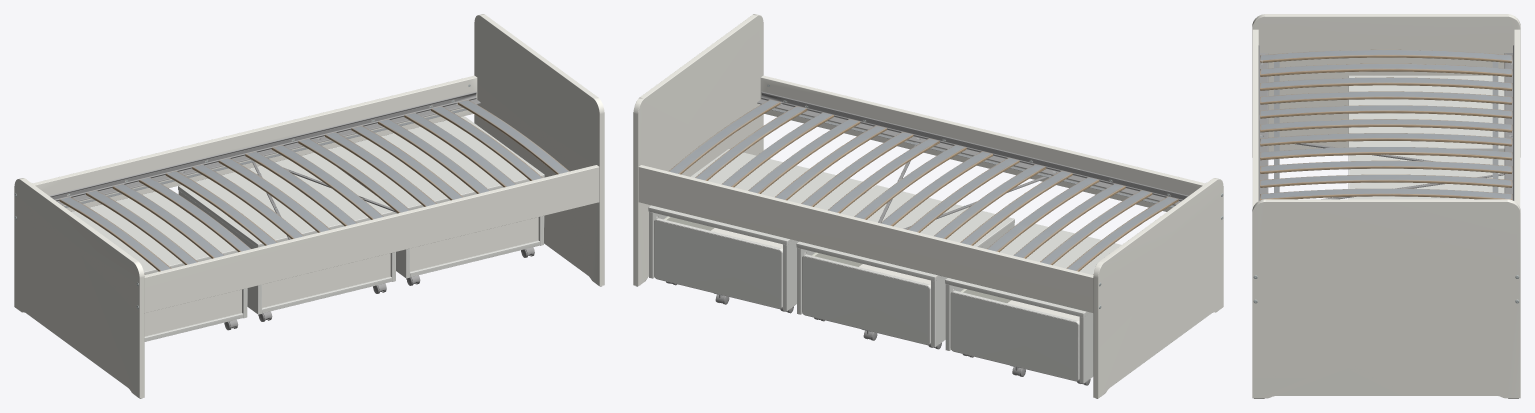
File: slakt_rama_ozka_z_3_poj_na_posciel_89386070.glb
3 renders of one model, left to right at view 1: azimuth 30°, elevation 25°; view 2: azimuth 150°, elevation 25°; view 3: azimuth 270°, elevation 25°, orthographic. The views are drawn at different scales.
Visible parts, largest first — view 1: slakt_rama_ozka_z_3_poj_na_posciel_89386070; view 2: slakt_rama_ozka_z_3_poj_na_posciel_89386070; view 3: slakt_rama_ozka_z_3_poj_na_posciel_89386070.
Part boxes in pixels (left/top/right/bottom): slakt_rama_ozka_z_3_poj_na_posciel_89386070: left=14, top=14, right=604, bottom=398; slakt_rama_ozka_z_3_poj_na_posciel_89386070: left=633, top=14, right=1223, bottom=398; slakt_rama_ozka_z_3_poj_na_posciel_89386070: left=1252, top=14, right=1520, bottom=398.
Size of the model in its own units: 2.06 by 0.7801 by 0.959.
Materials: 2 (1 with a texture image).
